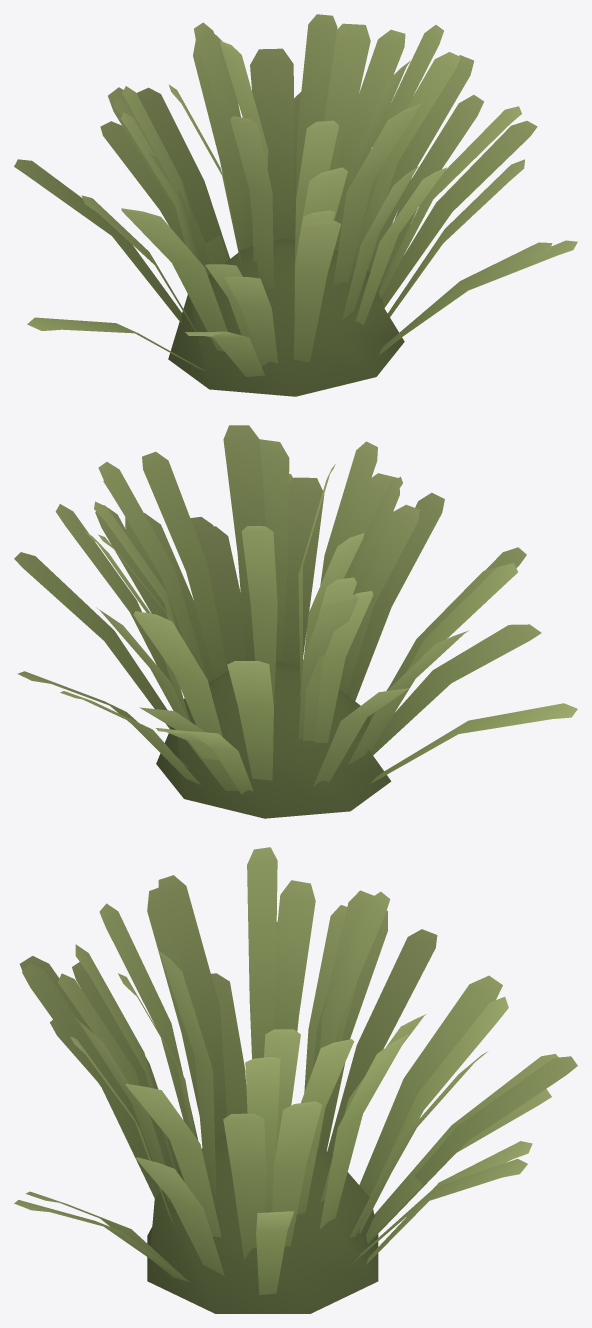
Rendered from tuft-d.glb.
3 views of the same model, one above another, from view 1: azimuth 30°, elevation 25°; view 2: azimuth 150°, elevation 25°; view 3: azimuth 270°, elevation 25° (orthographic). The views are drawn at different scales.
Parts seen in each view (by area): view 1: tuft_d_grass_tuft; view 2: tuft_d_grass_tuft; view 3: tuft_d_grass_tuft.
Boxes of the visible parts, x1,y1,x2,y2 form: tuft_d_grass_tuft: (14, 14, 577, 396); tuft_d_grass_tuft: (14, 425, 577, 818); tuft_d_grass_tuft: (14, 847, 577, 1313).
Bounding box in the file's own units: 0.5865 × 0.34 × 0.463.
